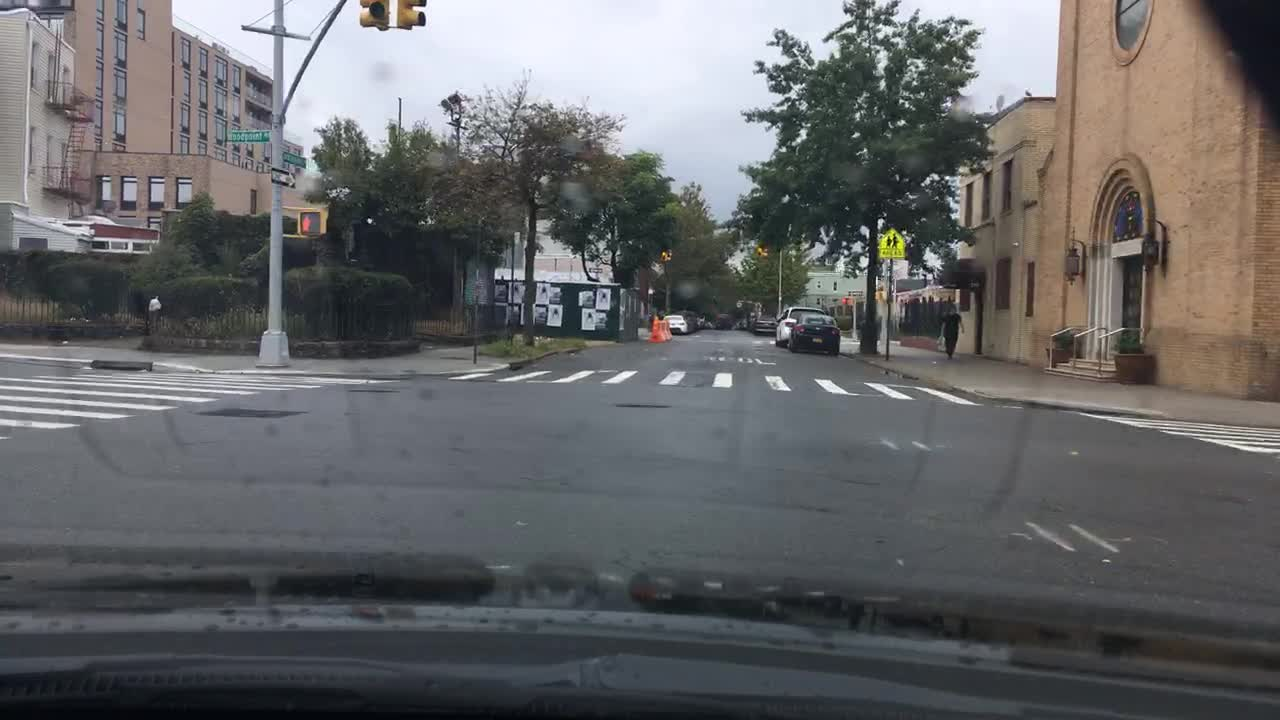car: (788, 315, 840, 356), (774, 304, 816, 348), (715, 309, 736, 329), (665, 313, 687, 332), (753, 318, 773, 333), (690, 313, 705, 332), (744, 313, 758, 329), (701, 319, 715, 330)
person: (939, 298, 966, 361)
traffic light: (397, 0, 424, 28), (295, 209, 323, 236), (368, 0, 386, 28), (355, 0, 371, 28), (838, 294, 854, 308), (658, 248, 668, 261), (754, 245, 764, 258)
traffic sign: (879, 227, 908, 258), (269, 164, 294, 184), (229, 129, 266, 140), (282, 150, 305, 167)
